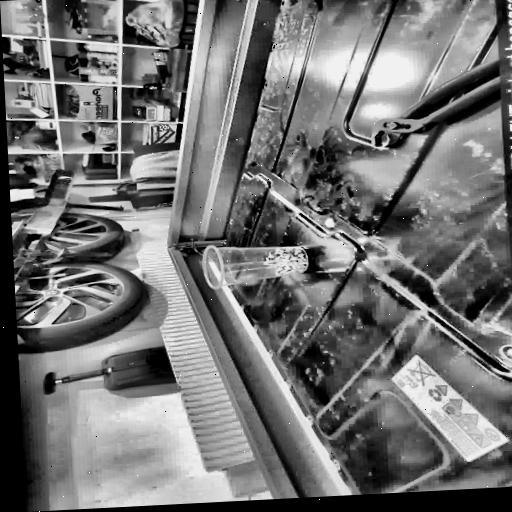b_casing: (216, 0, 512, 495)
